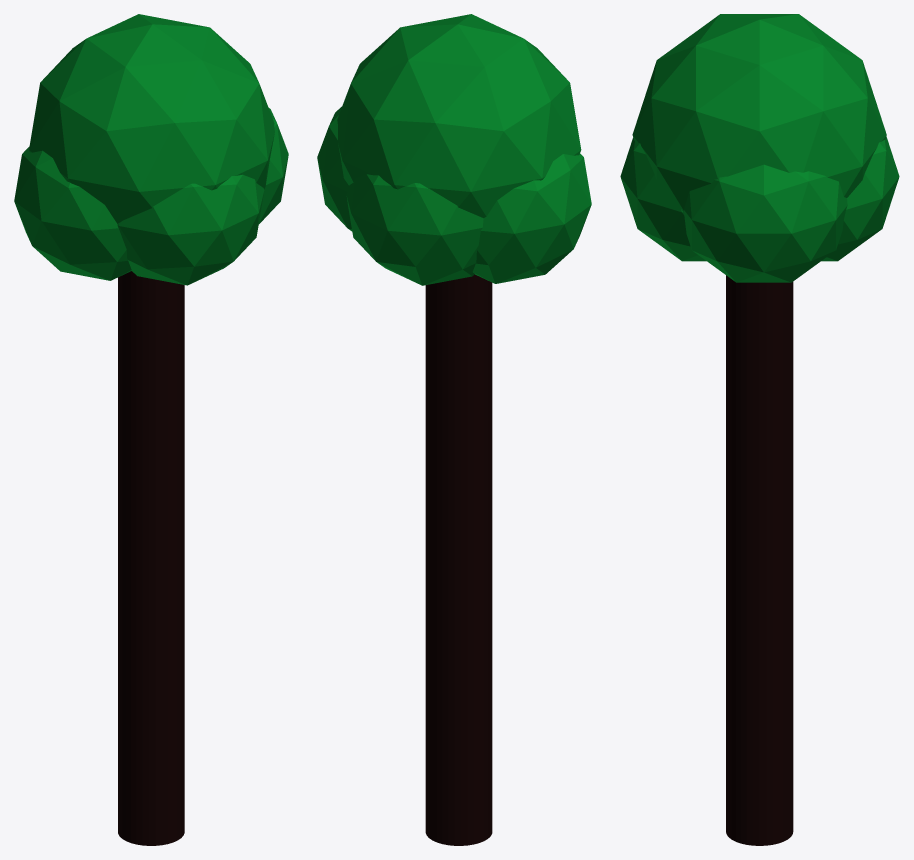
The model's file is Tall_Low_Leaf_Tree.glb.
3 renders of one model, left to right at view 1: azimuth 30°, elevation 25°; view 2: azimuth 150°, elevation 25°; view 3: azimuth 270°, elevation 25°, orthographic.
Parts seen in each view (by area): view 1: Cylinder, Icosphere, Icosphere.004, Icosphere.001, Icosphere.002; view 2: Cylinder, Icosphere, Icosphere.003, Icosphere.001, Icosphere.002; view 3: Cylinder, Icosphere, Icosphere.002, Icosphere.004, Icosphere.003.
Part boxes in pixels (x1,y1,x2,y2): Cylinder: (118, 271, 184, 845); Icosphere: (29, 14, 274, 223); Icosphere.004: (117, 174, 264, 285); Icosphere.001: (14, 146, 131, 280); Icosphere.002: (258, 107, 288, 224); Cylinder: (425, 274, 492, 845); Icosphere: (337, 14, 581, 218); Icosphere.003: (346, 174, 483, 285); Icosphere.001: (472, 153, 591, 283); Icosphere.002: (317, 106, 352, 231); Cylinder: (726, 275, 793, 845); Icosphere: (632, 14, 886, 214); Icosphere.002: (684, 164, 847, 282); Icosphere.004: (620, 137, 706, 261); Icosphere.003: (821, 136, 899, 261).
Bounding box in the file's own units: 8.54 × 26.64 × 8.29.
